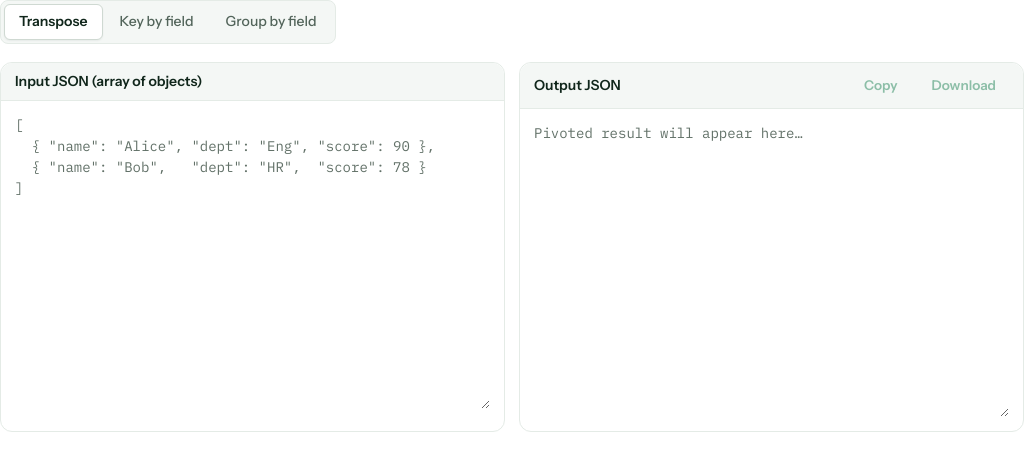
Scenario: JsonPivot › shows an error for invalid JSON
The image size is (1024, 449).
Replace the text in the 1st text box with "not json" at (252, 262), box [15,115,490,409]
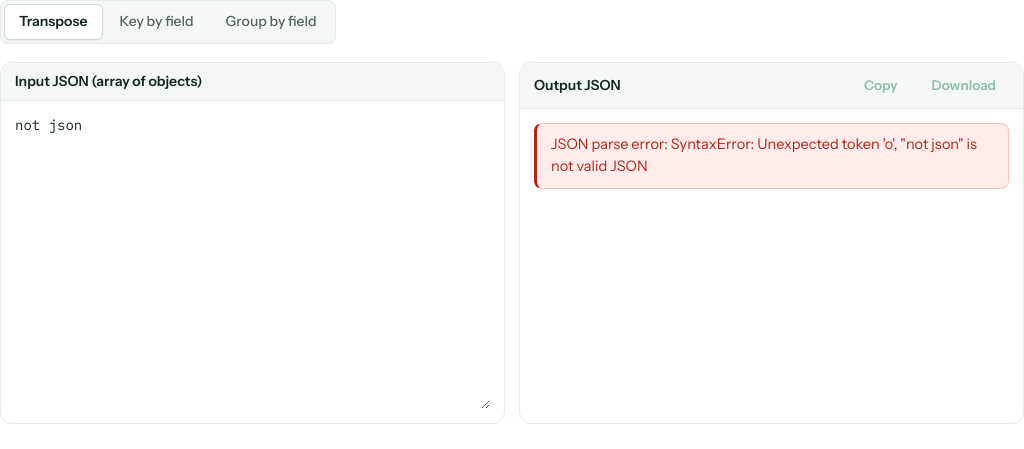
Expected: the text "JSON parse error" is shown, [551,135,977,175]
